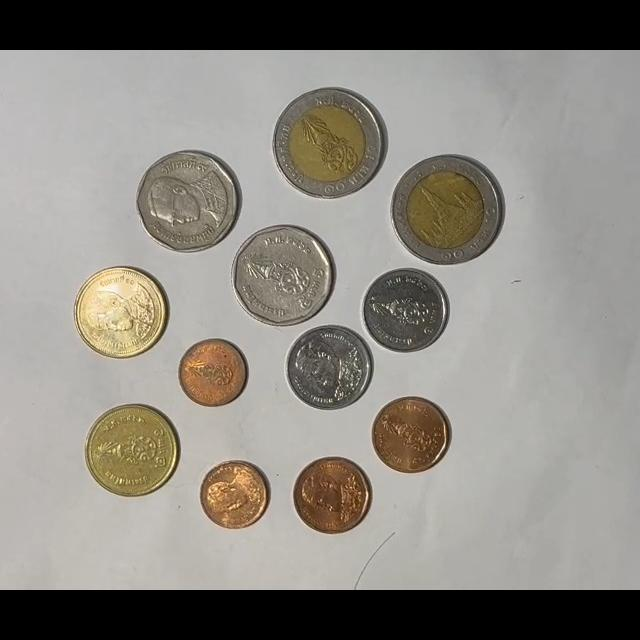1-baht: (362, 268, 449, 355), (285, 324, 372, 411)
10-baht: (272, 87, 387, 200), (391, 155, 503, 265)
2-baht: (85, 403, 180, 497), (74, 266, 167, 359)
25-satang: (199, 460, 270, 531), (178, 339, 248, 407)
5-baht: (136, 150, 241, 253), (232, 224, 334, 328)
50-satang: (293, 457, 372, 535), (371, 396, 450, 473)
